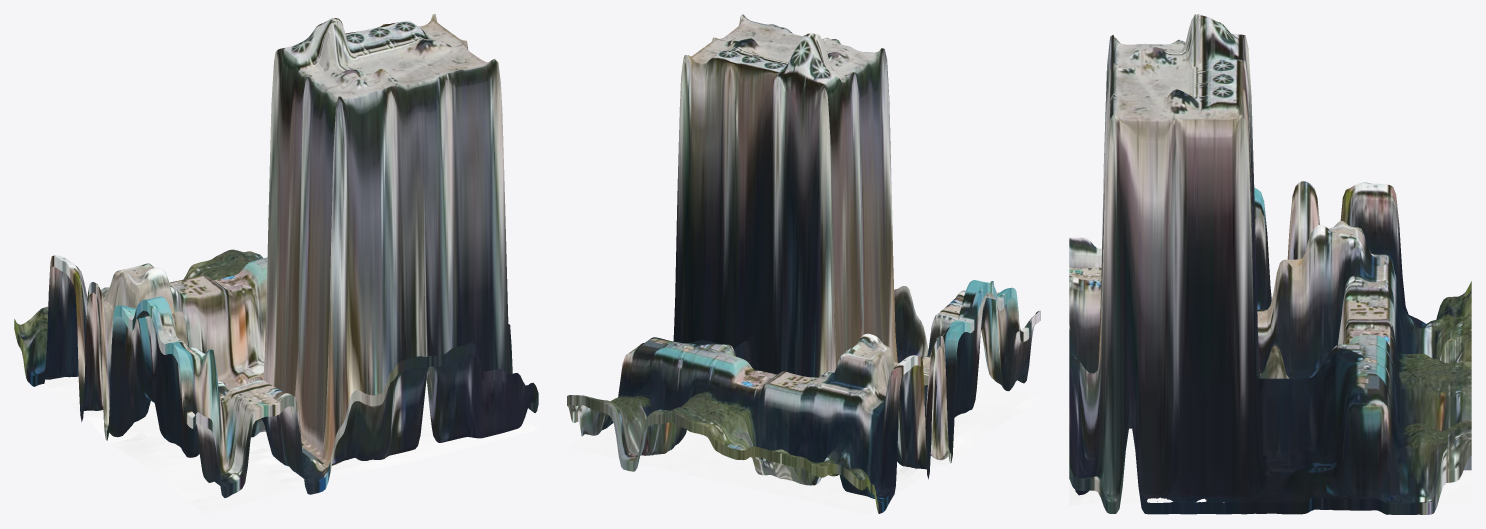
The picture shows the model from 3 angles, left to right: view 1: azimuth 30°, elevation 25°; view 2: azimuth 150°, elevation 25°; view 3: azimuth 270°, elevation 25°; orthographic projection. The views are drawn at different scales.
Parts seen in each view (by area): view 1: surface, ground; view 2: surface, ground; view 3: surface, ground.
Boxes of the visible parts, x1,y1,x2,y2 form: surface: (14, 14, 538, 497); ground: (14, 361, 538, 514); surface: (567, 14, 1040, 513); ground: (567, 380, 1040, 514); surface: (1069, 14, 1471, 514); ground: (1069, 428, 1471, 505).
Size of the model in its own units: 128 by 150 by 128.
Materials: 2 (1 with a texture image).
